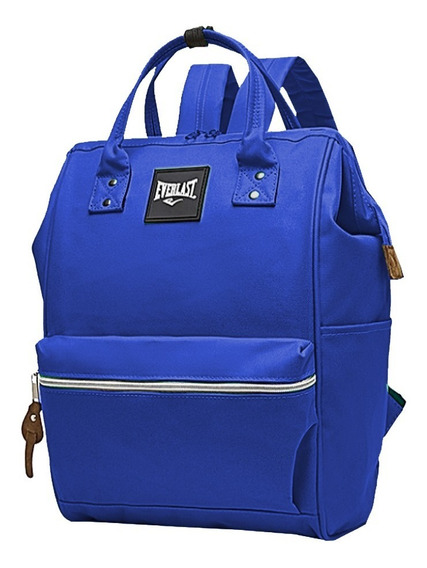cartera: (21, 28, 407, 544)
